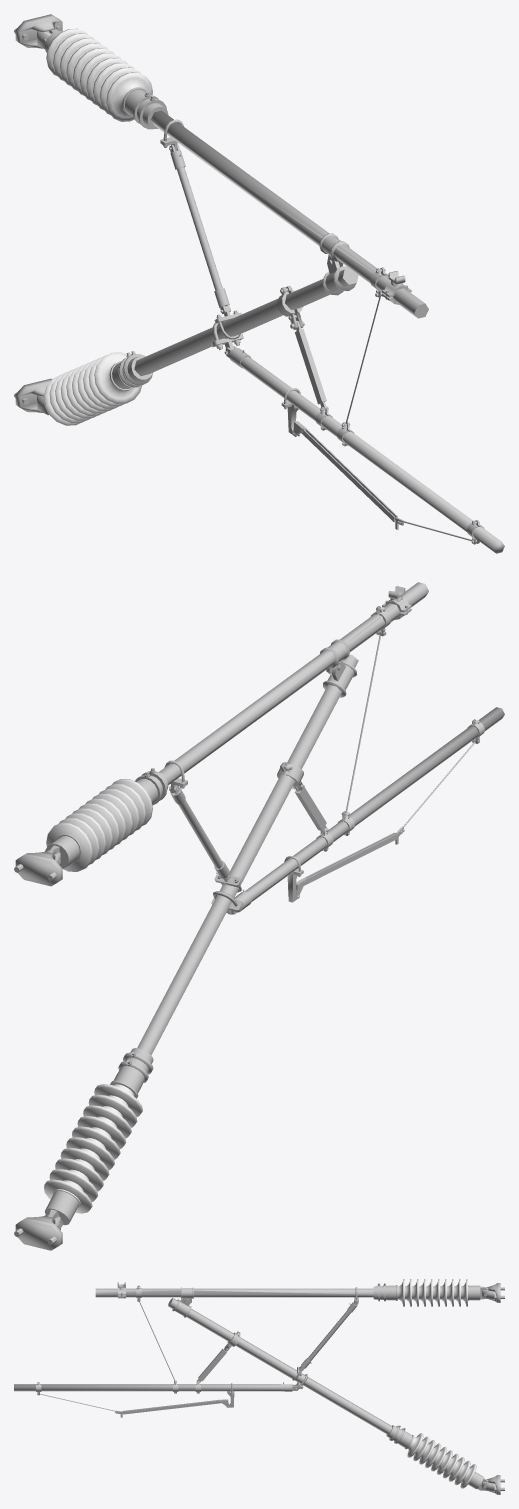
File: single_positive.obj
3 renders of one model, top to bottom at view 1: azimuth 30°, elevation 25°; view 2: azimuth 150°, elevation 25°; view 3: azimuth 270°, elevation 25°, orthographic. The views are drawn at different scales.
Visible parts, largest first — view 1: 1.011, 1.008, 1.010, 1.007, 1.006, 立方体, 1.009; view 2: 1.011, 1.008, 1.010, 1.006, 1.007, 1.009; view 3: 1.011, 1.008, 1.010, 1.009, 1.006, 1.007.
Boxes of the visible parts, x1,y1,x2,y2 form: 1.011: [42, 29, 504, 553]; 1.008: [44, 28, 152, 425]; 1.010: [281, 388, 484, 544]; 1.007: [15, 14, 62, 49]; 1.006: [15, 378, 51, 415]; 立方体: [295, 328, 326, 404]; 1.009: [337, 267, 388, 446]; 1.011: [44, 582, 504, 1229]; 1.008: [44, 779, 152, 1213]; 1.010: [284, 719, 484, 902]; 1.006: [15, 1214, 62, 1250]; 1.007: [15, 850, 62, 886]; 1.009: [337, 606, 391, 835]; 1.011: [14, 1282, 487, 1490]; 1.008: [397, 1279, 476, 1488]; 1.010: [36, 1382, 234, 1417]; 1.009: [136, 1285, 178, 1393]; 1.006: [482, 1475, 500, 1494]; 1.007: [482, 1283, 500, 1302].
Size of the model in its own units: 0.24 by 1.99 by 4.2.
